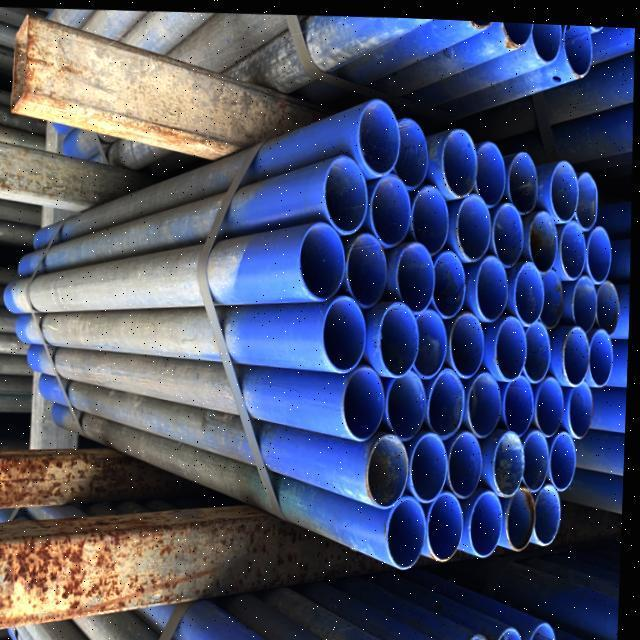pipe: (296, 216, 346, 298), (321, 147, 368, 230), (320, 290, 367, 371), (354, 92, 401, 172), (365, 428, 412, 506), (341, 359, 387, 438), (343, 226, 388, 304), (367, 166, 412, 244), (376, 295, 420, 374), (385, 489, 428, 566), (393, 235, 436, 310), (384, 364, 428, 436), (388, 111, 428, 187), (426, 362, 467, 436), (409, 178, 450, 251), (408, 426, 449, 498), (438, 121, 479, 192), (409, 302, 448, 376), (427, 486, 467, 558), (454, 185, 492, 258), (446, 424, 484, 494), (430, 244, 468, 314), (466, 365, 504, 434), (448, 305, 486, 374), (469, 484, 506, 554), (474, 248, 510, 317), (472, 134, 507, 204), (492, 425, 528, 493), (493, 309, 529, 377), (490, 195, 525, 262), (512, 254, 546, 321), (506, 479, 539, 547), (502, 368, 537, 432), (521, 312, 554, 378), (526, 202, 559, 268), (506, 144, 539, 210), (534, 368, 567, 432), (547, 153, 580, 217), (534, 476, 565, 540), (521, 423, 552, 487), (562, 318, 592, 382), (558, 212, 588, 274), (536, 261, 565, 324), (567, 372, 596, 433), (585, 217, 614, 278), (571, 267, 600, 328), (550, 424, 578, 485), (588, 321, 616, 382), (572, 163, 599, 224), (595, 272, 622, 330)
